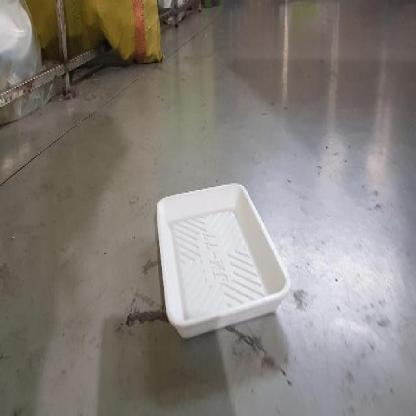Glass Cup: (156, 180, 291, 338), (156, 183, 291, 338)
